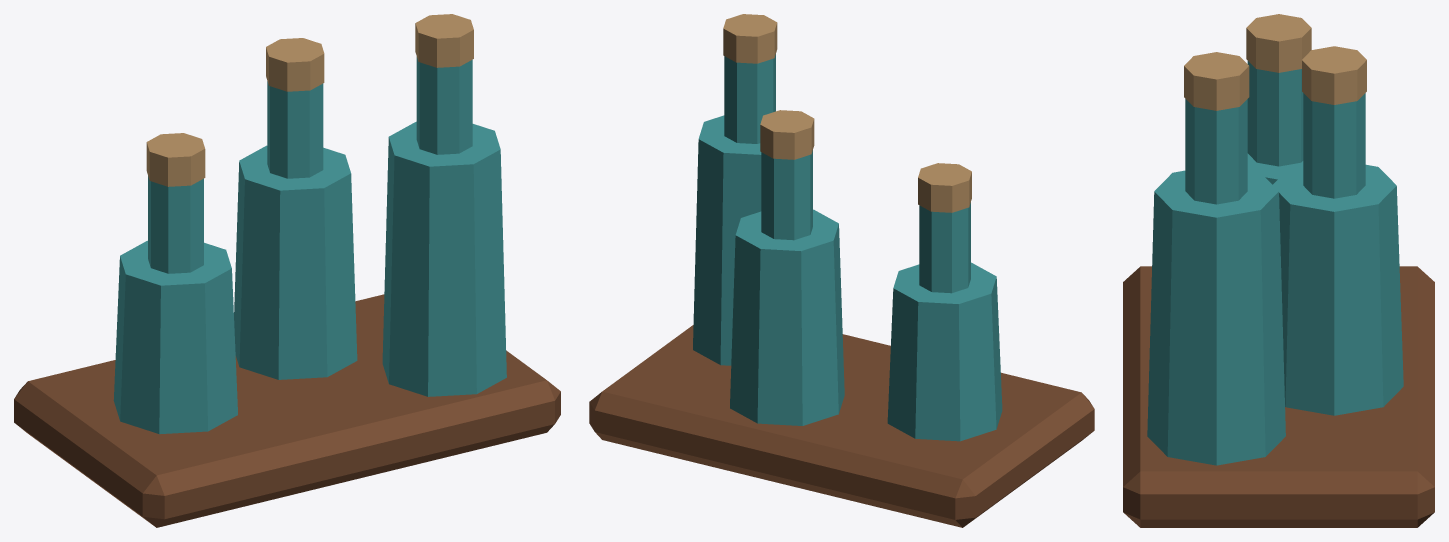
The model's file is bottles.glb.
The picture shows the model from 3 angles, left to right: view 1: azimuth 30°, elevation 25°; view 2: azimuth 150°, elevation 25°; view 3: azimuth 270°, elevation 25°; orthographic projection. The views are drawn at different scales.
Visible parts, largest first — view 1: Bottle tray, Sea glass bottle.002, Sea glass bottle.001, Sea glass bottle, Bottle neck.001, Bottle neck.002, Bottle neck, Cork, Cork.001, Cork.002; view 2: Bottle tray, Sea glass bottle.001, Sea glass bottle, Sea glass bottle.002, Bottle neck.001, Bottle neck, Bottle neck.002, Cork.002, Cork.001, Cork; view 3: Bottle tray, Sea glass bottle.002, Sea glass bottle.001, Bottle neck.002, Bottle neck.001, Bottle neck, Cork.002, Cork.001, Cork, Sea glass bottle.
Part boxes in pixels (x1,y1,x2,y2): Bottle tray: (14, 294, 560, 527); Sea glass bottle.002: (382, 121, 506, 396); Sea glass bottle.001: (234, 145, 357, 379); Sea glass bottle: (113, 240, 237, 434); Bottle neck.001: (267, 81, 323, 178); Bottle neck.002: (416, 57, 472, 154); Bottle neck: (148, 176, 203, 273); Cork: (146, 133, 205, 186); Cork.001: (266, 38, 324, 91); Cork.002: (415, 14, 473, 67); Bottle tray: (589, 325, 1094, 527); Sea glass bottle.001: (730, 209, 844, 425); Sea glass bottle: (887, 262, 1002, 441); Sea glass bottle.002: (693, 115, 761, 365); Bottle neck.001: (761, 150, 812, 240); Bottle neck: (919, 202, 970, 293); Bottle neck.002: (724, 54, 775, 143); Cork.002: (723, 14, 777, 63); Cork.001: (760, 110, 814, 159); Cork: (918, 163, 971, 212); Bottle tray: (1123, 266, 1434, 527); Sea glass bottle.002: (1147, 170, 1285, 465); Sea glass bottle.001: (1273, 164, 1403, 415); Bottle neck.002: (1185, 99, 1247, 204); Bottle neck.001: (1303, 93, 1365, 198); Bottle neck: (1247, 61, 1303, 166); Cork.002: (1184, 52, 1249, 110); Cork.001: (1302, 46, 1366, 104); Cork: (1246, 14, 1311, 72); Sea glass bottle: (1247, 153, 1303, 184).
Bounding box in the file's own units: 0.75 × 0.68 × 0.45.
